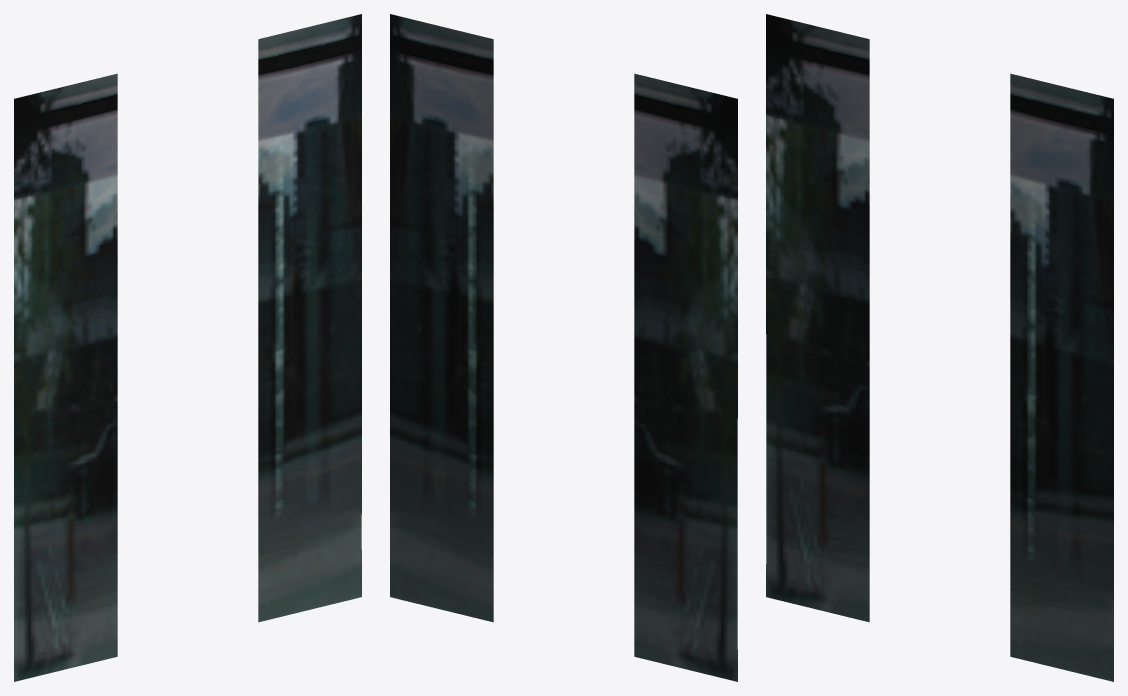
File: city_doorGlass.fbx
3 views of the same model, side by side, from view 1: azimuth 30°, elevation 25°; view 2: azimuth 150°, elevation 25°; view 3: azimuth 330°, elevation 25° (orthographic).
Visible parts, largest first — view 1: city_doorGlass; view 2: city_doorGlass; view 3: city_doorGlass.
Part boxes in pixels (left/top/right/bottom): city_doorGlass: left=14, top=14, right=361, bottom=681; city_doorGlass: left=390, top=14, right=737, bottom=681; city_doorGlass: left=766, top=14, right=1113, bottom=681.
Size of the model in its own units: 85.52 by 0.0011 by 137.
